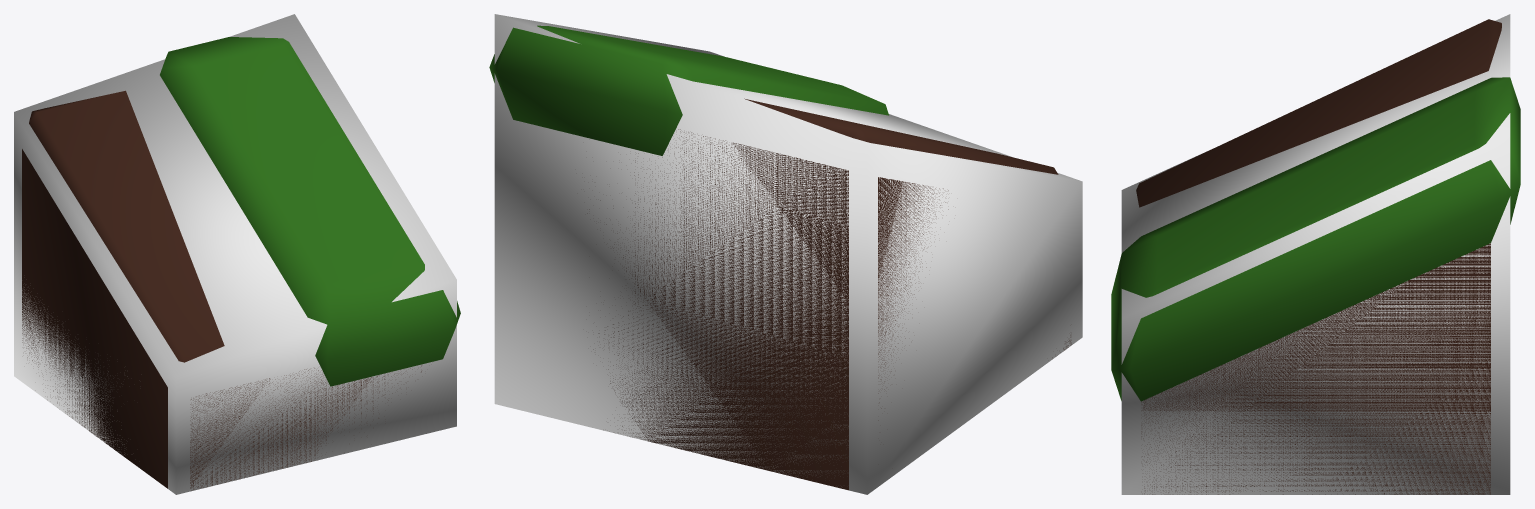
File: edge_ramp_R.glb
3 renders of one model, left to right at view 1: azimuth 30°, elevation 25°; view 2: azimuth 150°, elevation 25°; view 3: azimuth 270°, elevation 25°, orthographic. The views are drawn at different scales.
Parts seen in each view (by area): view 1: edge_ramp_R, edge_ramp_R_phy; view 2: edge_ramp_R_phy, edge_ramp_R; view 3: edge_ramp_R, edge_ramp_R_phy.
Part boxes in pixels (left/top/right/bottom): edge_ramp_R: left=22, top=37, right=460, bottom=490; edge_ramp_R_phy: left=14, top=14, right=456, bottom=494; edge_ramp_R_phy: left=494, top=14, right=1082, bottom=494; edge_ramp_R: left=489, top=25, right=1071, bottom=490; edge_ramp_R: left=1111, top=19, right=1520, bottom=494; edge_ramp_R_phy: left=1121, top=14, right=1510, bottom=494.
Bounding box in the file's own units: 1.03 × 1 × 1.05.
